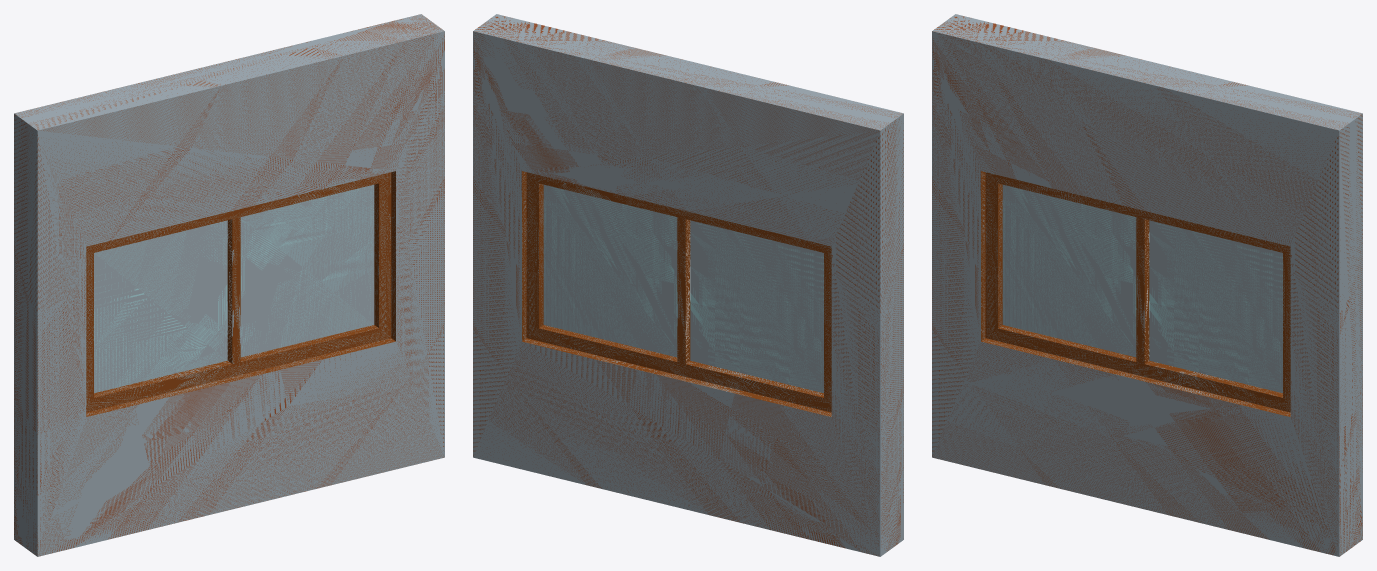
Rendered from wall_window_4b.fbx.
3 renders of one model, left to right at view 1: azimuth 30°, elevation 25°; view 2: azimuth 150°, elevation 25°; view 3: azimuth 330°, elevation 25°, orthographic.
Parts seen in each view (by area): view 1: Mesh1_window_2_1 Model; view 2: Mesh1_window_2_1 Model; view 3: Mesh1_window_2_1 Model.
Part boxes in pixels (left/top/right/bottom): Mesh1_window_2_1 Model: left=14, top=14, right=444, bottom=556; Mesh1_window_2_1 Model: left=473, top=14, right=903, bottom=556; Mesh1_window_2_1 Model: left=932, top=14, right=1362, bottom=556.
Size of the model in its own units: 1 by 1 by 0.1.
